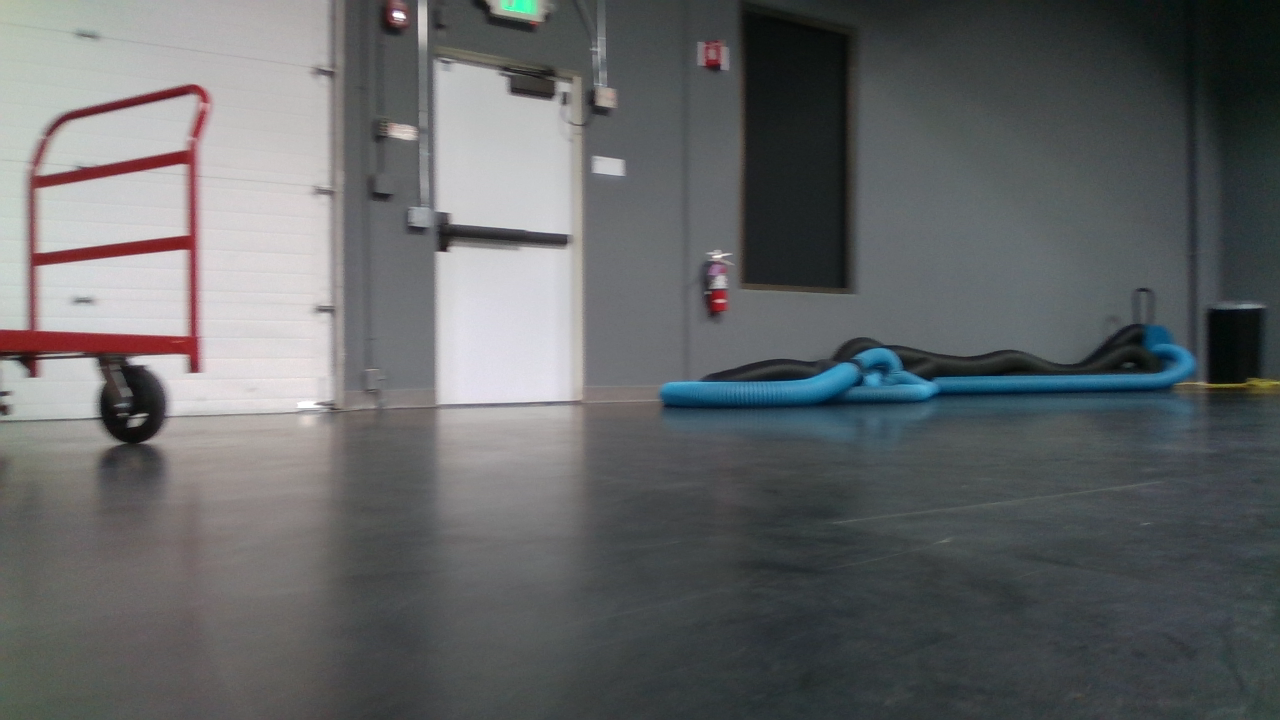Dolly: (0, 77, 238, 443)
Wheel: (93, 357, 169, 445)
